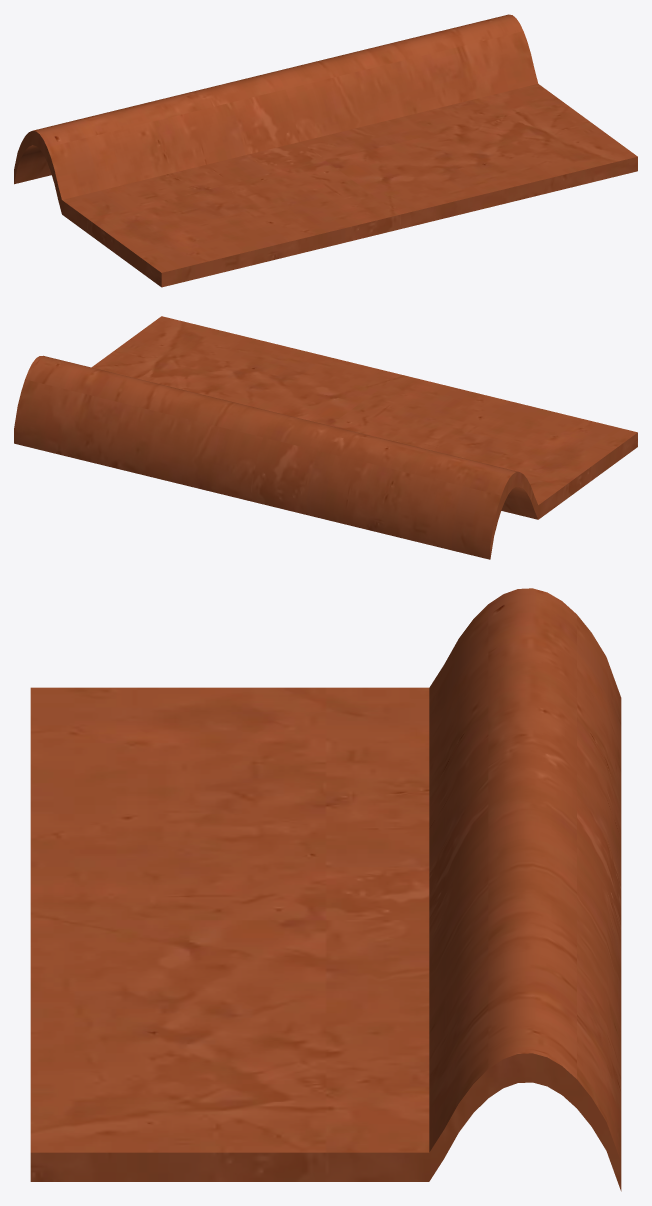
Rendered from COB-CER-003.glb.
3 views of the same model, one above another, from view 1: azimuth 30°, elevation 25°; view 2: azimuth 150°, elevation 25°; view 3: azimuth 270°, elevation 25° (orthographic). The views are drawn at different scales.
Parts seen in each view (by area): view 1: COB-CER-003_telha; view 2: COB-CER-003_telha; view 3: COB-CER-003_telha.
Boxes of the visible parts, x1,y1,x2,y2 form: COB-CER-003_telha: [14, 14, 637, 287]; COB-CER-003_telha: [14, 316, 637, 559]; COB-CER-003_telha: [30, 588, 621, 1191].
Size of the model in its own units: 0.41 by 0.0569 by 0.22.
Materials: 1 (1 with a texture image).
